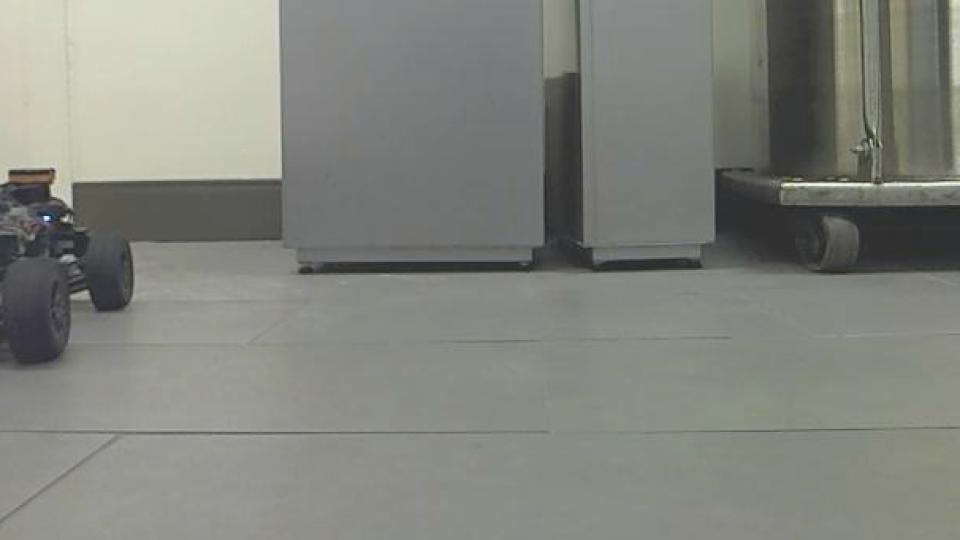car: (0, 163, 136, 367)
